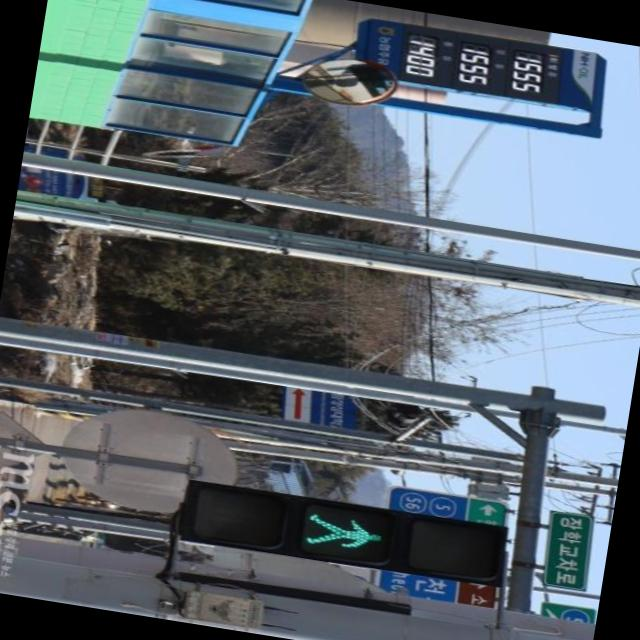green_light: (298, 503, 384, 565)
